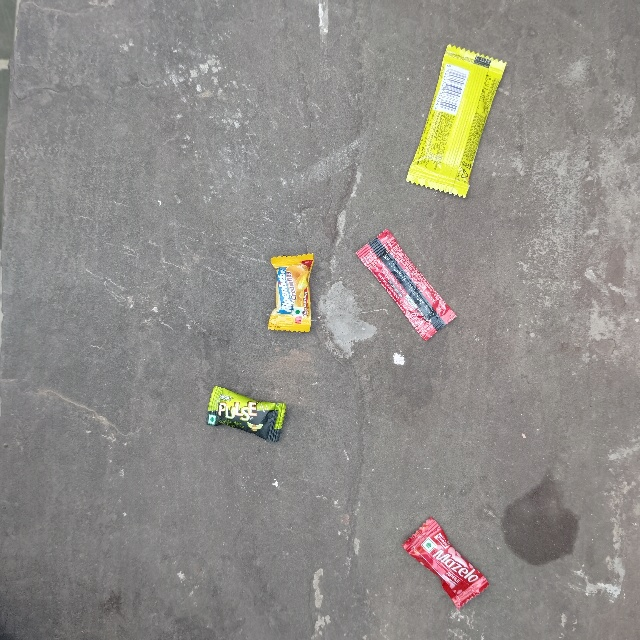Alpenlibe Creamfills: (269, 256, 311, 335)
Mazelo: (429, 513, 519, 558)
Nescafe Coffee: (389, 225, 509, 271)
Orbit: (455, 39, 513, 187)
Pulse: (218, 384, 289, 424)
